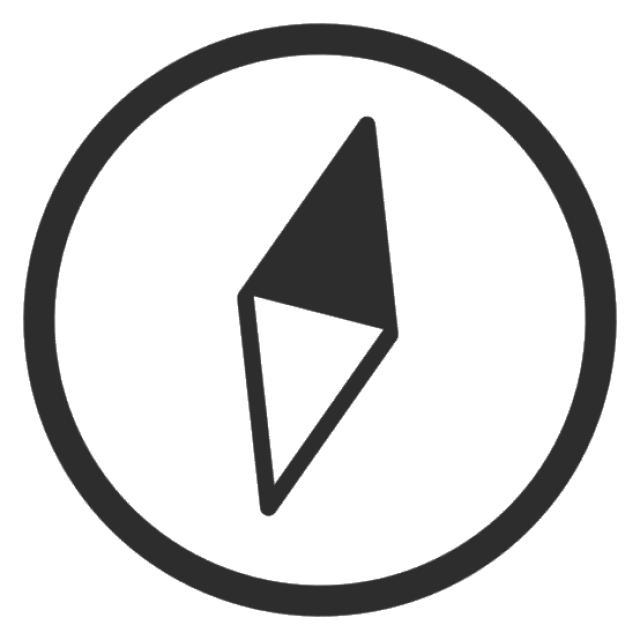compass: (13, 15, 629, 632)
